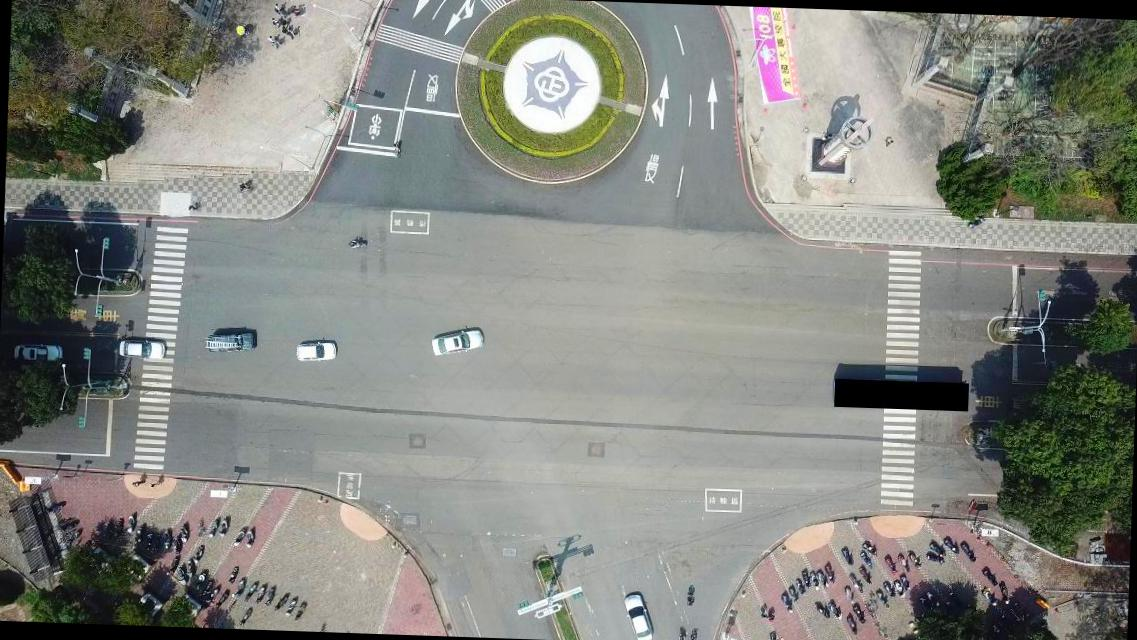vehicle: (621, 592, 655, 639), (430, 328, 484, 357), (206, 327, 254, 352), (117, 337, 166, 361), (13, 342, 63, 363), (294, 340, 338, 360)
